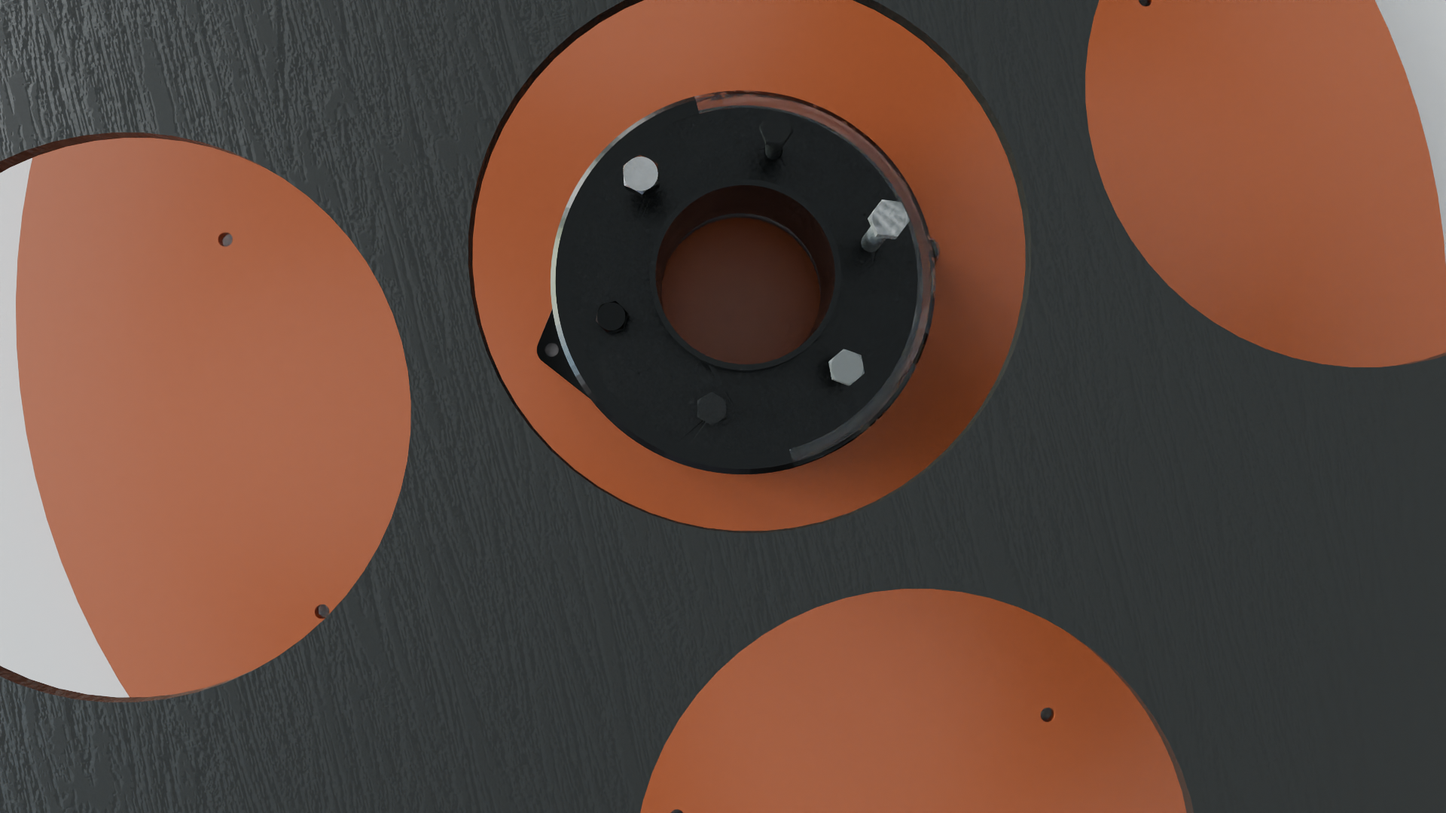bolt: (870, 199, 910, 236), (624, 155, 659, 195), (830, 349, 865, 385), (759, 113, 793, 144), (596, 301, 627, 333), (697, 392, 726, 425)
